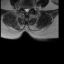CCS_normal: (26, 5, 27, 15)
LFS_normal: (29, 4, 32, 11)
LLS_normal: (27, 5, 29, 13)
RFS_stenosis: (22, 5, 24, 10)
RLS_normal: (24, 5, 26, 13)
